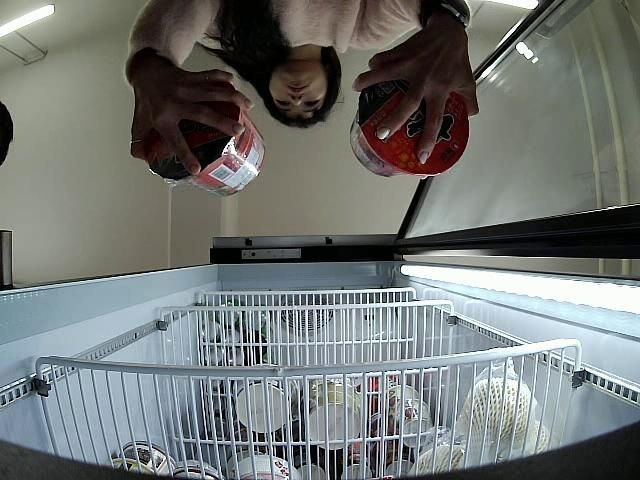01_ShinRamen_L: (142, 101, 266, 200), (349, 83, 472, 180)
